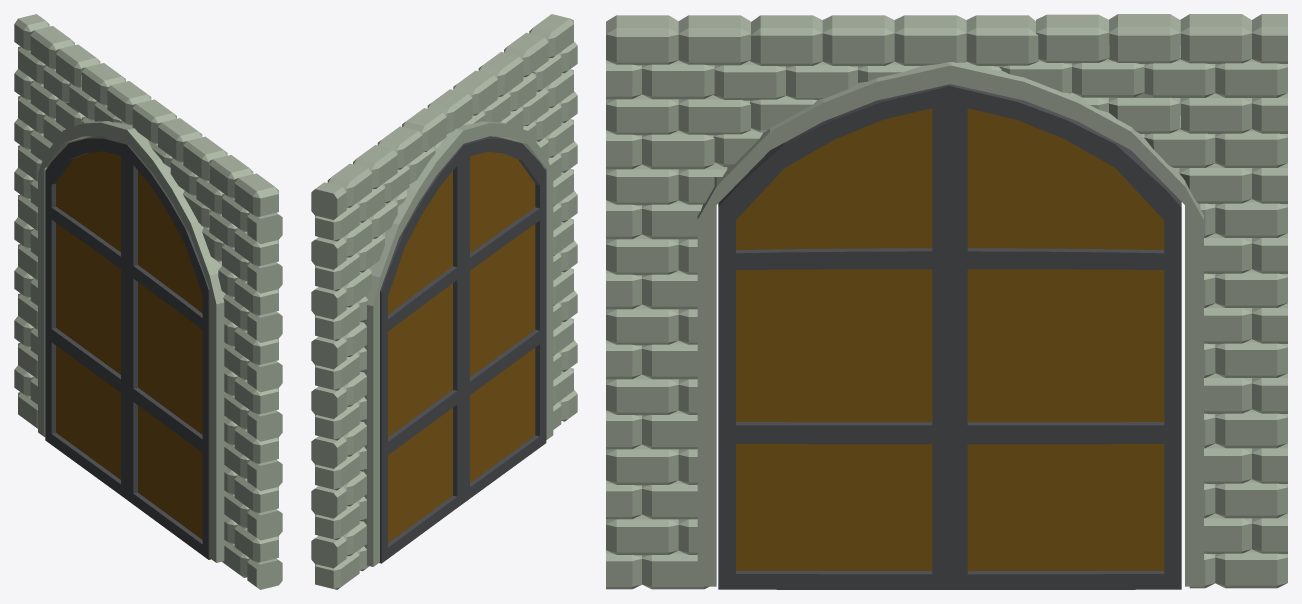
File: Porte avec encadrement.fbx
The picture shows the model from 3 angles, left to right: view 1: azimuth 30°, elevation 25°; view 2: azimuth 150°, elevation 25°; view 3: azimuth 270°, elevation 25°; orthographic projection. The views are drawn at different scales.
Parts seen in each view (by area): view 1: Mur Portail, Porte Gauche, Porte Droite; view 2: Mur Portail, Porte Droite, Porte Gauche; view 3: Mur Portail, Porte Droite, Porte Gauche.
Part boxes in pixels (x1,y1,x2,y2): Mur Portail: (14, 14, 282, 589); Porte Gauche: (127, 144, 210, 559); Porte Droite: (45, 135, 127, 499); Mur Portail: (311, 14, 577, 589); Porte Droite: (379, 145, 463, 563); Porte Gauche: (462, 136, 546, 502); Mur Portail: (606, 14, 1287, 589); Porte Droite: (950, 84, 1181, 589); Porte Gauche: (718, 84, 949, 589).
Bounding box in the file's own units: 368 × 3535 × 3890.
